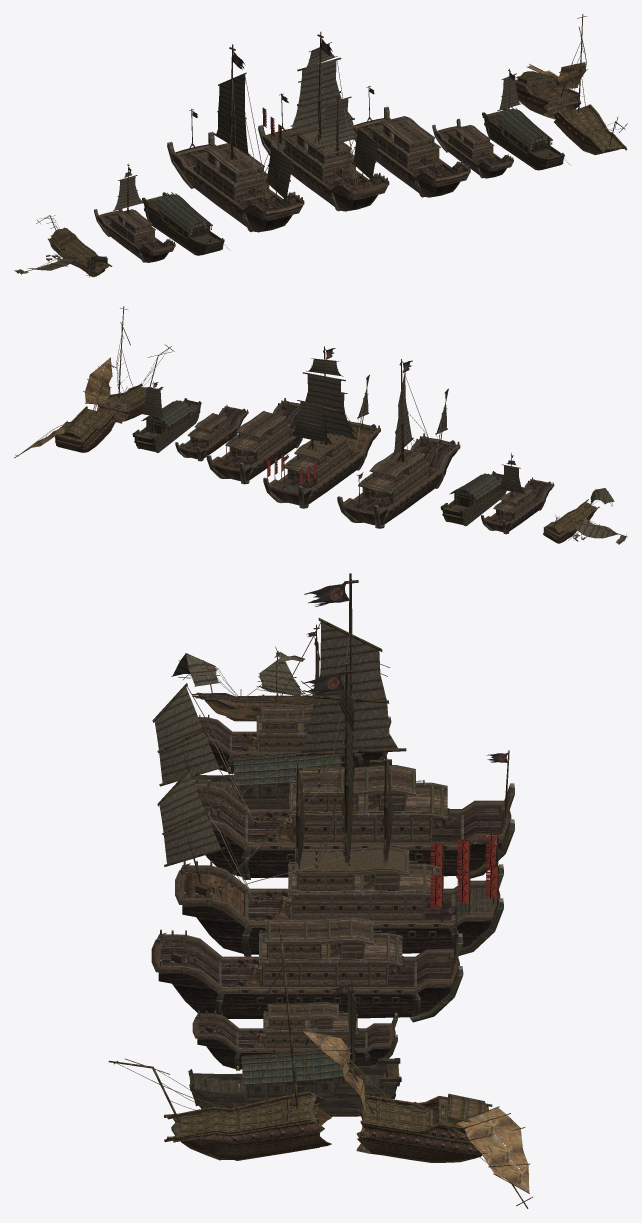
File: ancientwarships.FBX
3 renders of one model, top to bottom at view 1: azimuth 30°, elevation 25°; view 2: azimuth 150°, elevation 25°; view 3: azimuth 270°, elevation 25°, orthographic. The views are drawn at different scales.
Visible parts, largest first — view 1: ship08, ship05, ship09, ship04, ship07, ship06, ship02, ship03, ship01; view 2: ship08, ship05, ship09, ship04, ship07, ship06, ship02, ship03, ship01; view 3: ship05, ship08, ship04, ship09, ship07, ship03, ship06, ship02, ship01.
Part boxes in pixels (left/top/right/bottom): ship08: left=258, top=31, right=389, bottom=211; ship05: left=167, top=44, right=304, bottom=232; ship09: left=515, top=14, right=627, bottom=155; ship04: left=350, top=86, right=470, bottom=197; ship07: left=482, top=68, right=570, bottom=170; ship06: left=94, top=163, right=175, bottom=262; ship02: left=142, top=192, right=230, bottom=255; ship03: left=432, top=118, right=513, bottom=178; ship01: left=14, top=215, right=112, bottom=277; ship08: left=263, top=346, right=380, bottom=508; ship05: left=337, top=359, right=460, bottom=528; ship09: left=14, top=306, right=174, bottom=458; ship04: left=206, top=398, right=302, bottom=484; ship07: left=132, top=381, right=201, bottom=452; ship06: left=481, top=453, right=554, bottom=534; ship02: left=440, top=471, right=506, bottom=526; ship03: left=175, top=404, right=248, bottom=461; ship01: left=543, top=488, right=627, bottom=544; ship05: left=152, top=573, right=514, bottom=880; ship08: left=157, top=663, right=503, bottom=956; ship04: left=151, top=903, right=463, bottom=1022; ship09: left=108, top=925, right=532, bottom=1208; ship07: left=188, top=980, right=401, bottom=1116; ship03: left=192, top=1002, right=397, bottom=1070; ship06: left=198, top=624, right=391, bottom=773; ship02: left=191, top=751, right=391, bottom=808; ship01: left=171, top=646, right=389, bottom=721.
Size of the model in its own units: 208 by 54.32 by 69.46.
Materials: 26 (25 with a texture image).
